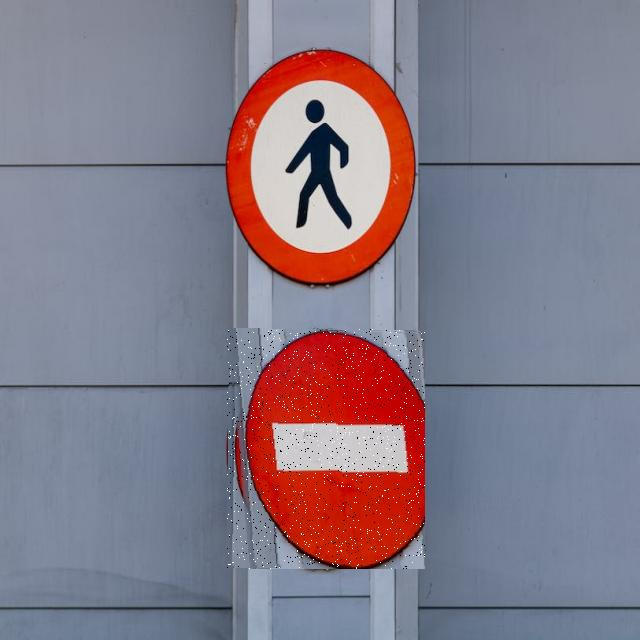no entry: (227, 329, 425, 569)
